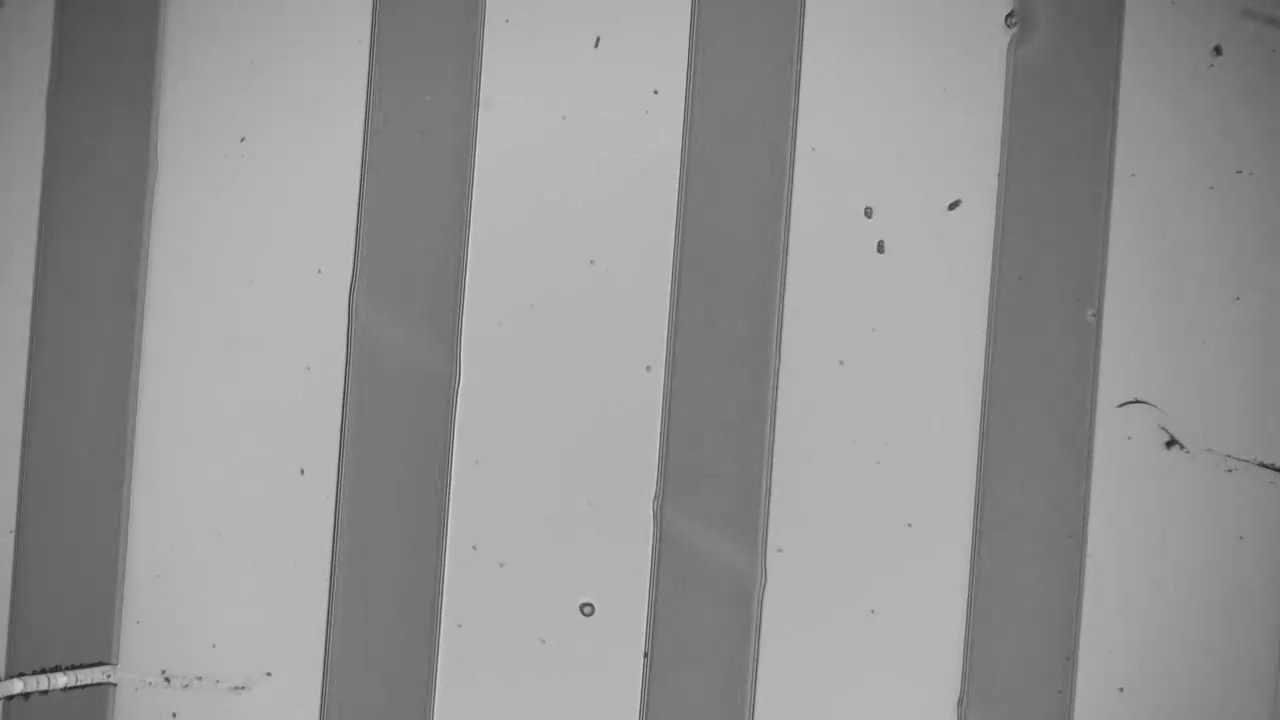Short_circuit: (0, 630, 148, 710)
